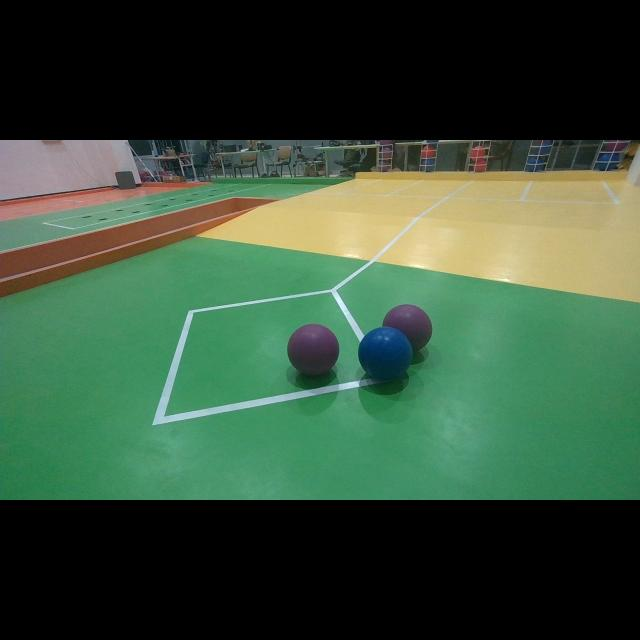B: (358, 327, 412, 381)
P: (287, 324, 339, 376), (384, 304, 434, 346)
